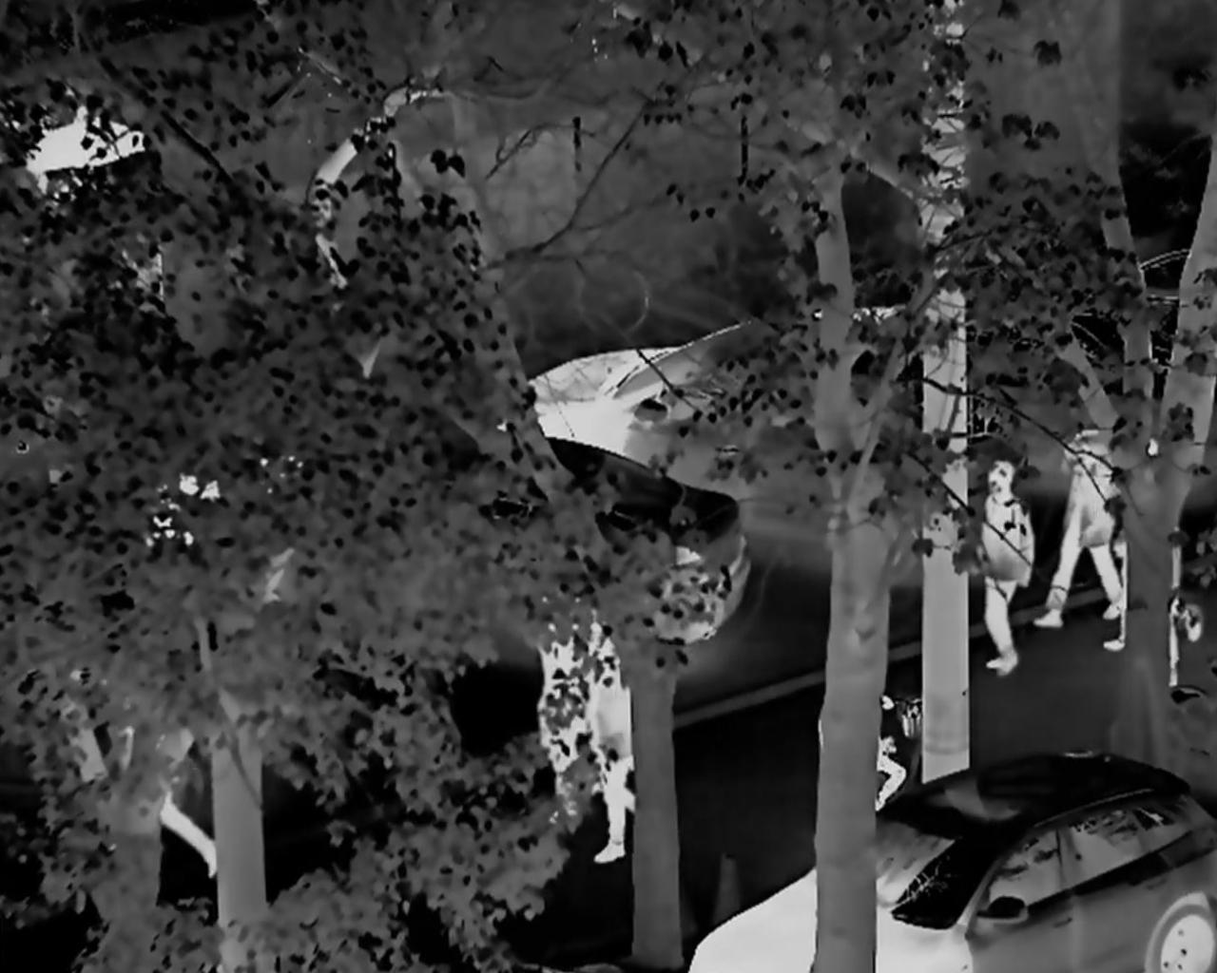person: (1097, 451, 1196, 681), (1032, 416, 1131, 641), (964, 454, 1041, 677), (582, 645, 655, 865), (538, 620, 600, 846)
